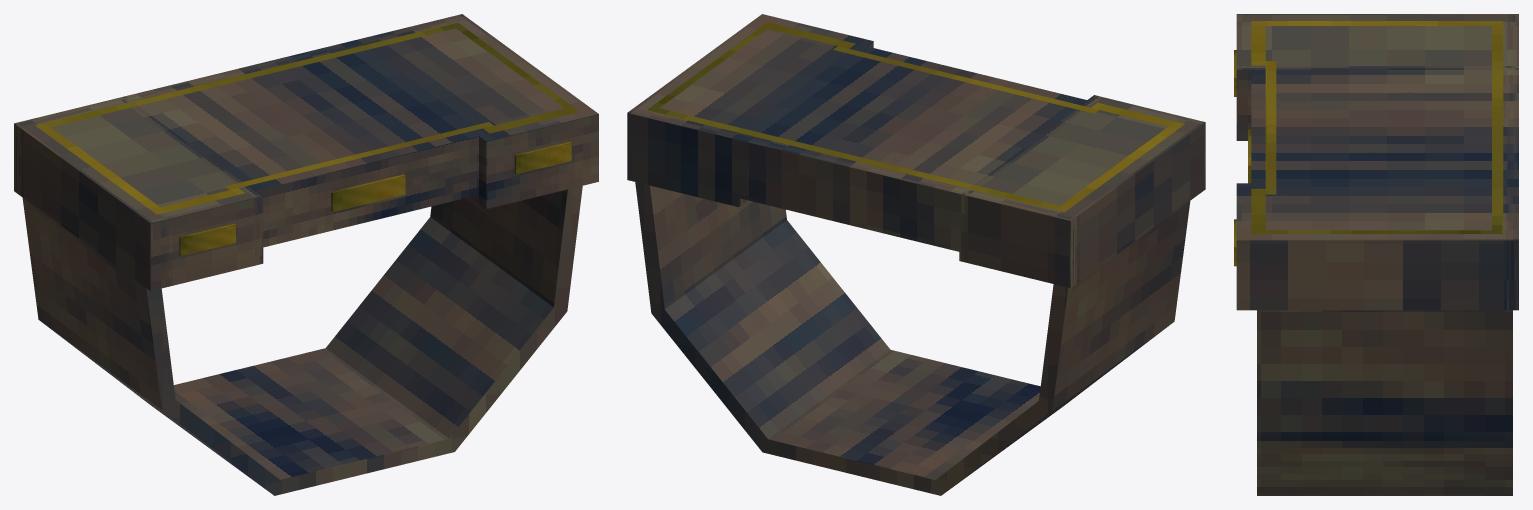
Rendered from Table 1.fbx.
3 renders of one model, left to right at view 1: azimuth 30°, elevation 25°; view 2: azimuth 150°, elevation 25°; view 3: azimuth 270°, elevation 25°, orthographic. The views are drawn at different scales.
Visible parts, largest first — view 1: Table 1; view 2: Table 1; view 3: Table 1.
Boxes of the visible parts, bbox=[...] form: Table 1: bbox=[14, 14, 598, 495]; Table 1: bbox=[627, 14, 1205, 495]; Table 1: bbox=[1234, 14, 1518, 495].
Bounding box in the file's own units: 1.24 × 0.6618 × 0.8289.
